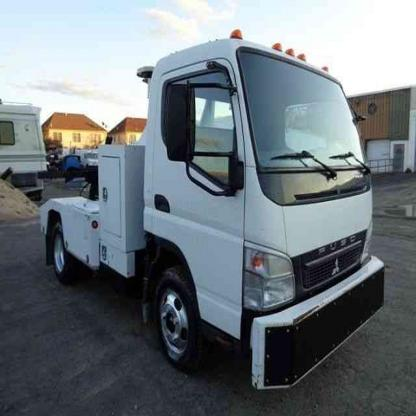truck: (41, 31, 385, 390)
